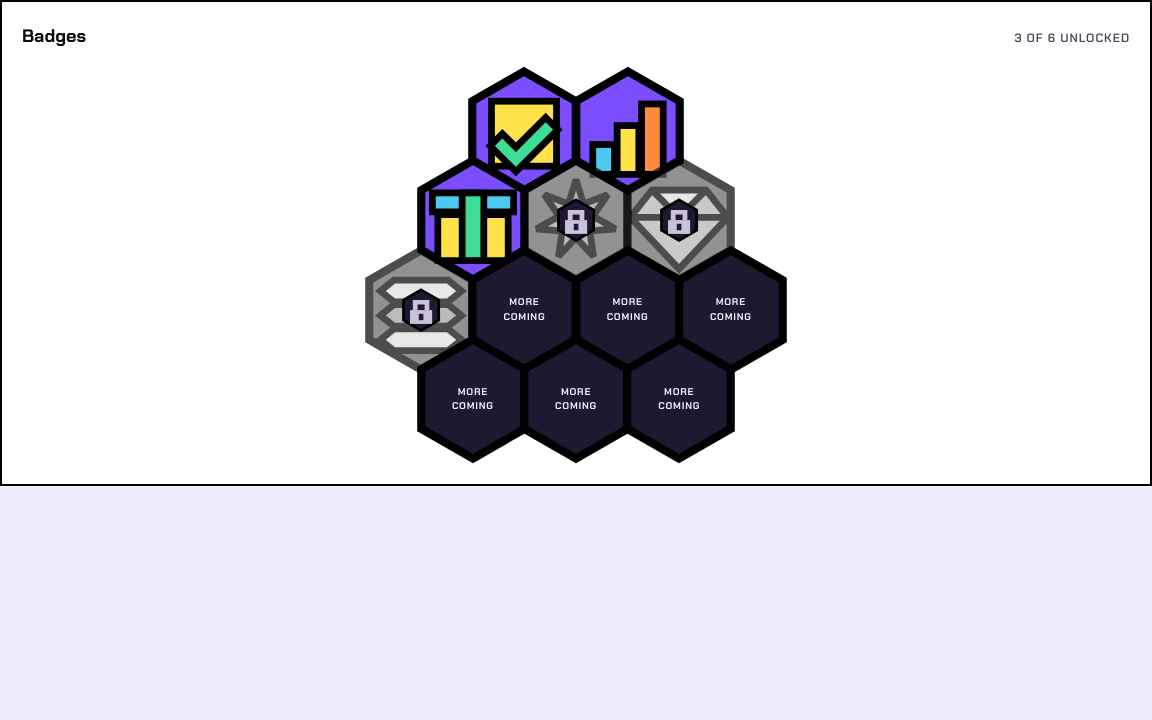
Test case: the locked tip — [76b] › a locked badge tips its criteria instead of opening the overlay
Click the button named "Badge 4, locked": click(576, 220) x1=511 y1=155 x2=641 y2=285
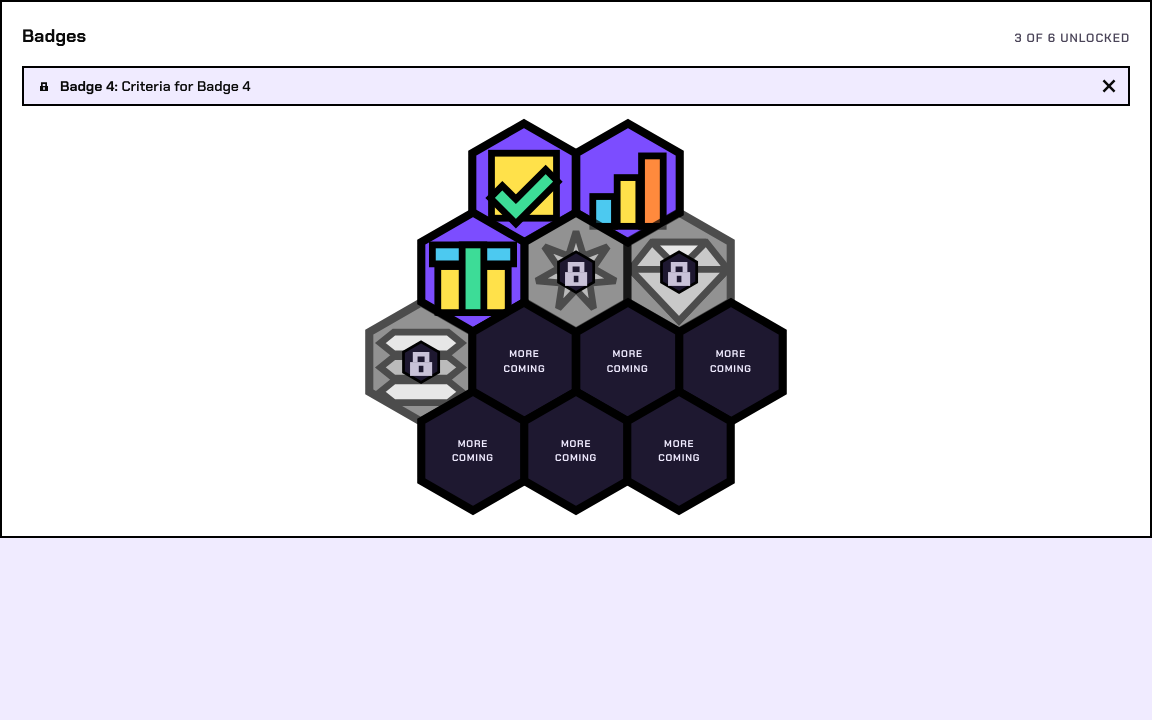
Result: the message shows "Badge 4" at x1=60 y1=77 x2=114 y2=95
Result: the message shows "Criteria for Badge 4" at x1=121 y1=77 x2=250 y2=95
